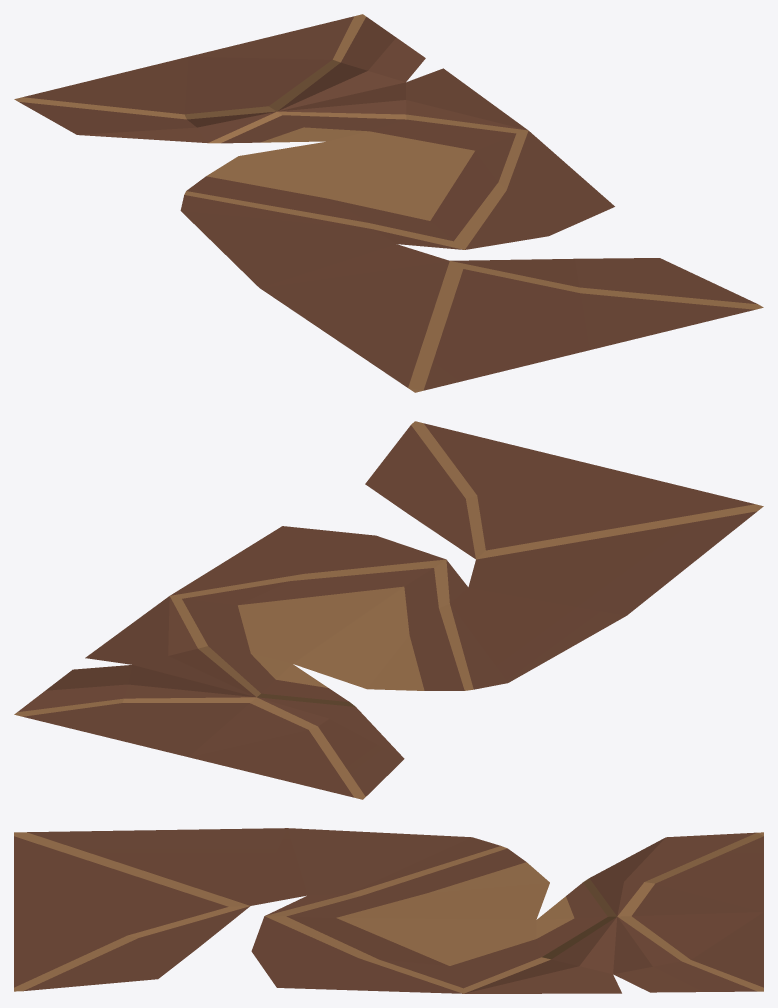
Rendered from Rug_1_Way_Ruined.fbx.
3 renders of one model, top to bottom at view 1: azimuth 30°, elevation 25°; view 2: azimuth 150°, elevation 25°; view 3: azimuth 270°, elevation 25°, orthographic. The views are drawn at different scales.
Visible parts, largest first — view 1: Rug_1_Way_Ruined; view 2: Rug_1_Way_Ruined; view 3: Rug_1_Way_Ruined.
Part boxes in pixels (x1,y1,x2,y2): Rug_1_Way_Ruined: (14,14,763,392); Rug_1_Way_Ruined: (14,421,763,799); Rug_1_Way_Ruined: (14,828,763,993).
Size of the model in its own units: 52.3 by 0.0053 by 100.
